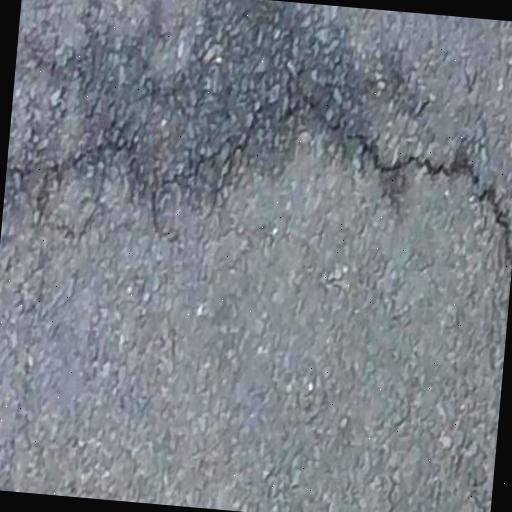spalling: (50, 78, 512, 244)
